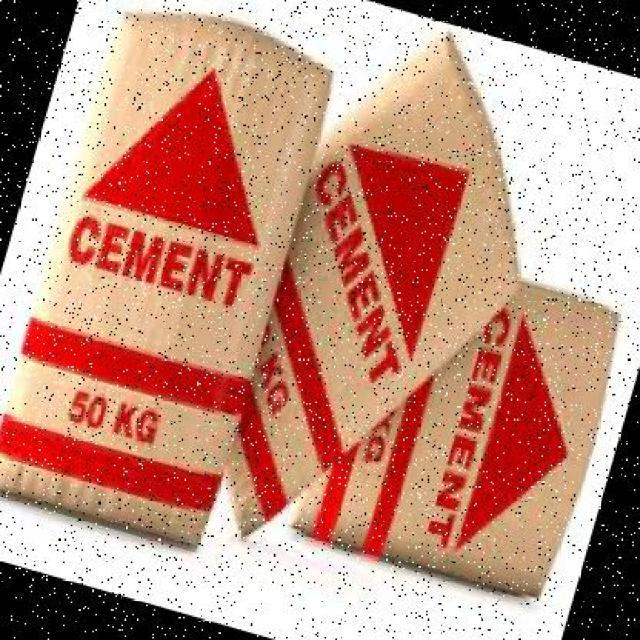gunny_bag: (0, 11, 336, 553), (232, 40, 520, 541), (298, 285, 618, 592)
